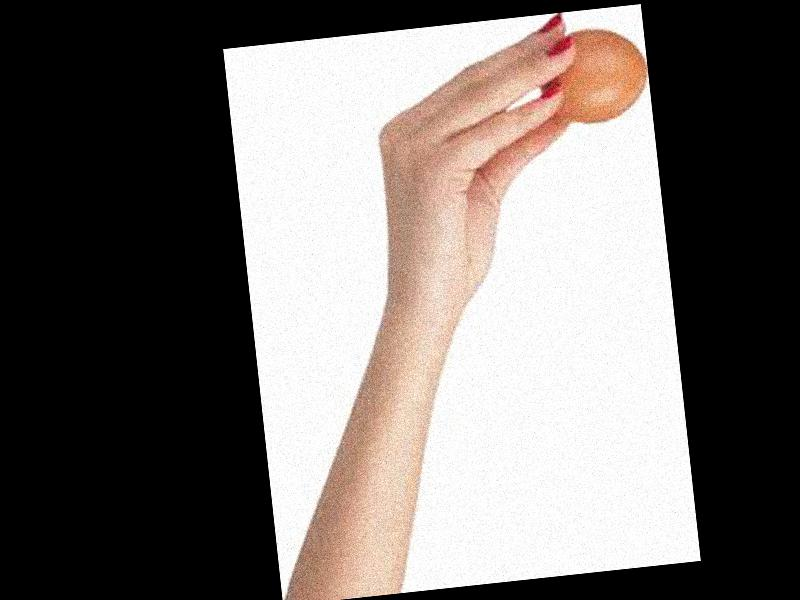Eggs: (538, 23, 650, 128)
